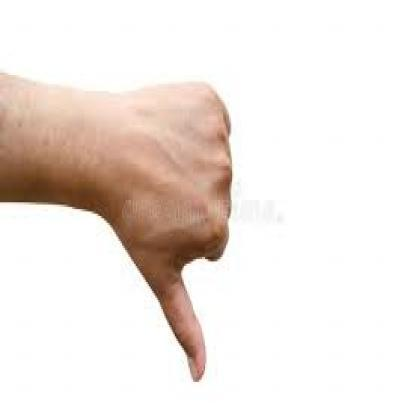thumb_down: (116, 74, 233, 384)
